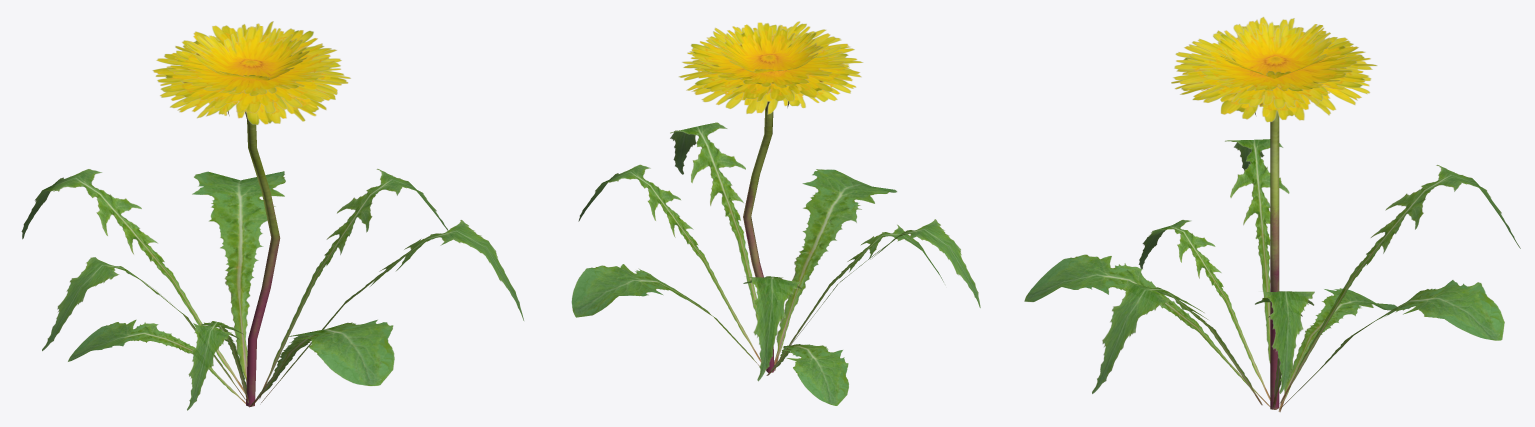
File: dandelion_b.glb
3 renders of one model, left to right at view 1: azimuth 30°, elevation 25°; view 2: azimuth 150°, elevation 25°; view 3: azimuth 270°, elevation 25°, orthographic. The views are drawn at different scales.
Visible parts, largest first — view 1: dandelion_b; view 2: dandelion_b; view 3: dandelion_b.
Boxes of the visible parts, x1,y1,x2,y2 form: dandelion_b: (21,21,523,410); dandelion_b: (571,21,980,405); dandelion_b: (1024,16,1520,412).
Size of the model in its own units: 1.99 by 1.6 by 2.02.
1 material, 1 textured.
